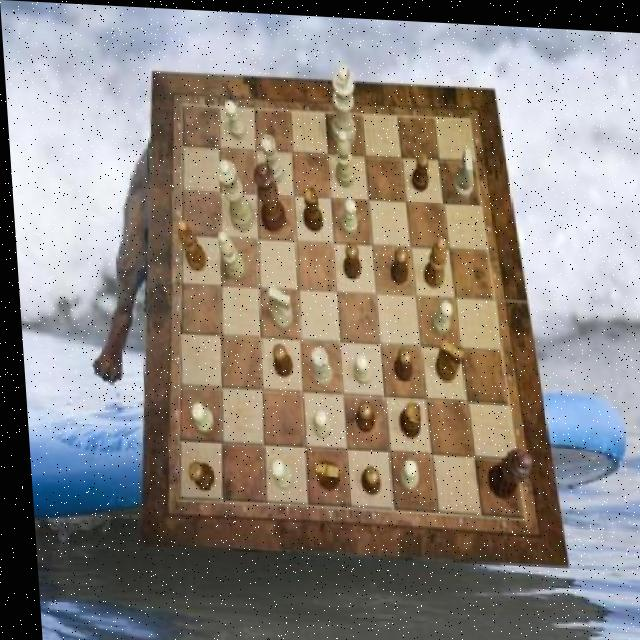bishop: (173, 217, 203, 269), (418, 232, 445, 284)
black-bishop: (480, 443, 530, 498)
black-king: (428, 333, 459, 377), (309, 456, 334, 488)
black-knight: (408, 149, 429, 187), (385, 243, 406, 280), (387, 344, 408, 379), (183, 460, 208, 489), (267, 341, 288, 375), (339, 239, 358, 276), (349, 398, 369, 430), (353, 464, 374, 492)
black-pawn: (250, 161, 284, 231)
black-queen: (298, 183, 320, 230), (393, 397, 417, 435)
black-rook: (215, 228, 243, 278), (331, 126, 353, 184)
white-bishop: (325, 59, 356, 144)
white-king: (447, 143, 473, 196), (264, 284, 289, 327)
white-knight: (222, 98, 244, 137), (426, 295, 450, 330), (264, 456, 288, 488), (184, 400, 208, 432), (336, 195, 355, 234), (346, 350, 367, 382), (392, 455, 412, 487), (306, 405, 327, 434)
white-pawn: (213, 157, 253, 230)
white-queen: (259, 134, 281, 182), (304, 344, 329, 385)
